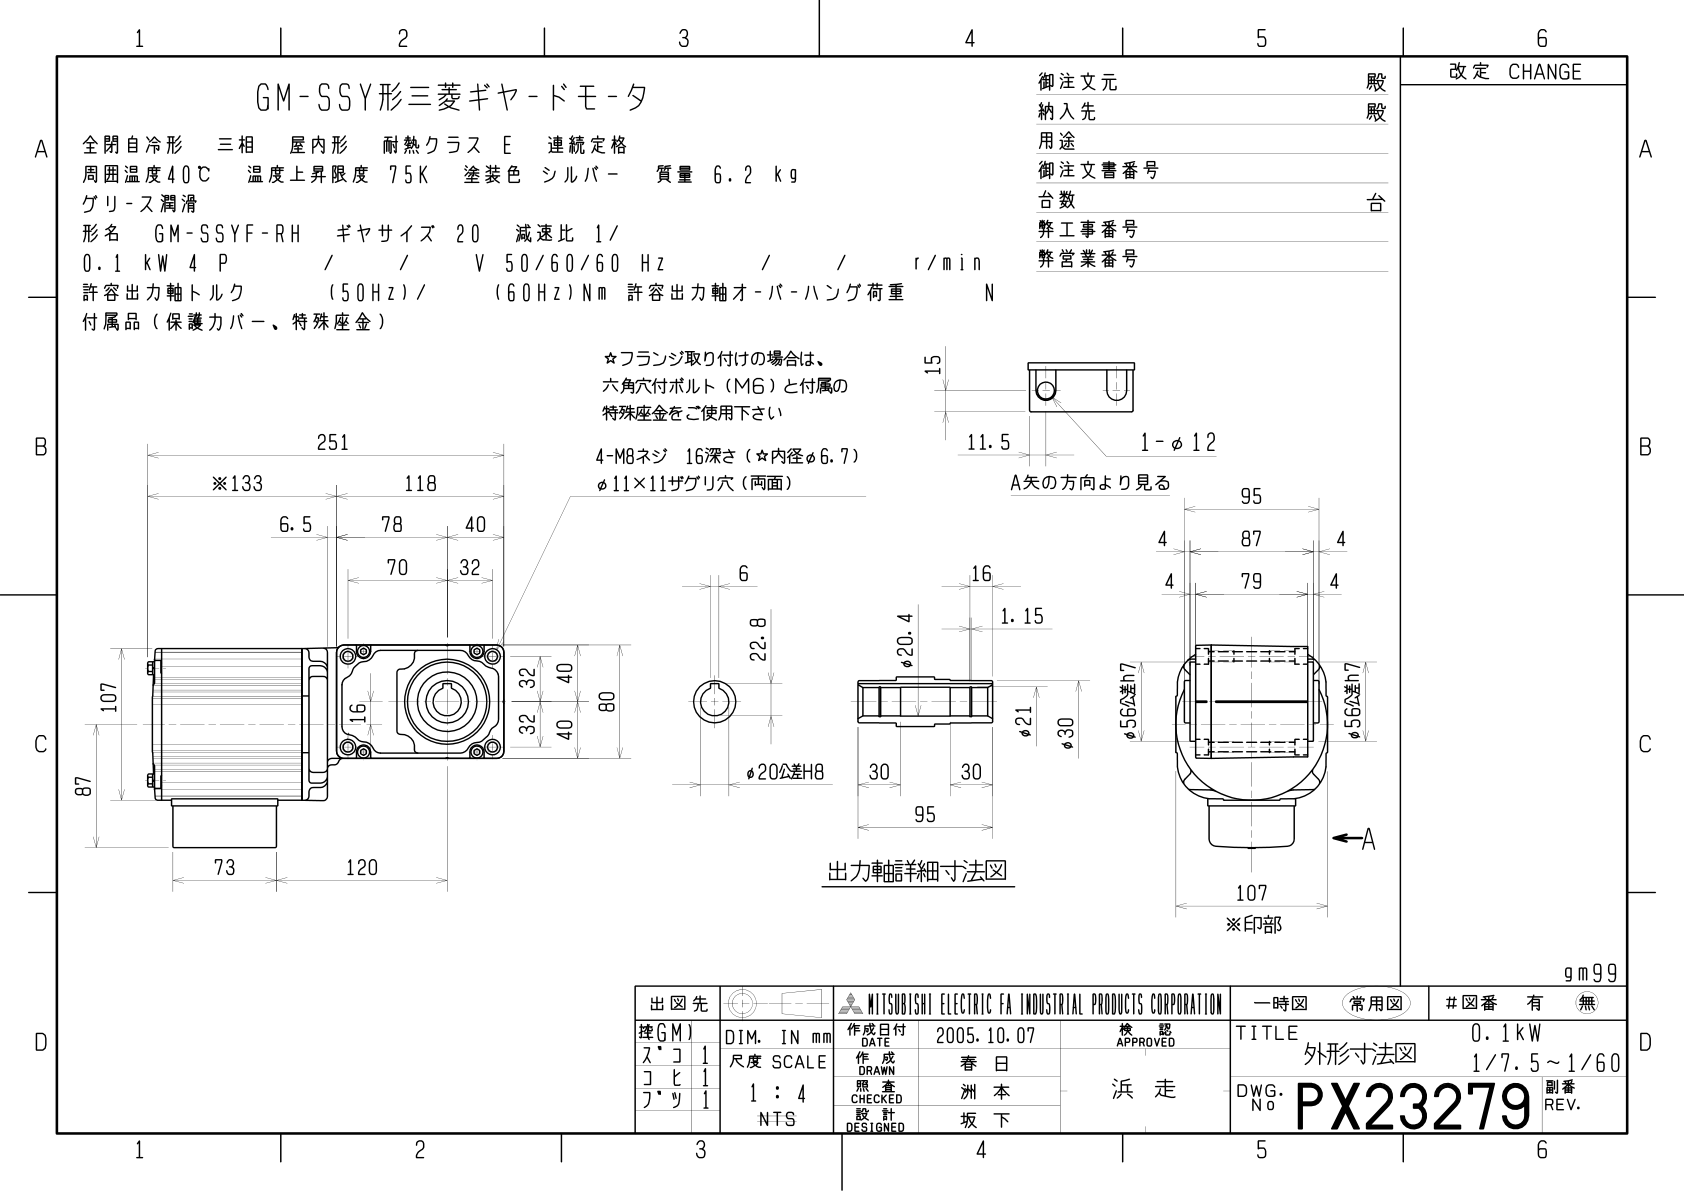GM_SSY_屋内_三相: (71, 339, 1395, 967)
